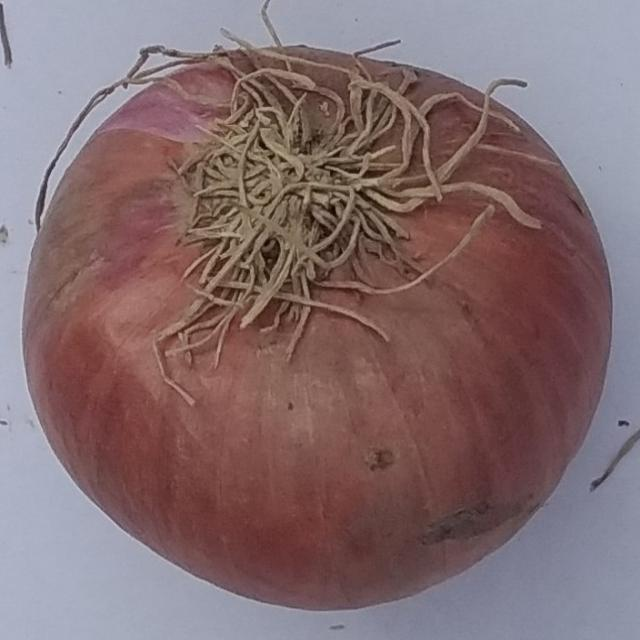onion: (21, 35, 614, 612)
